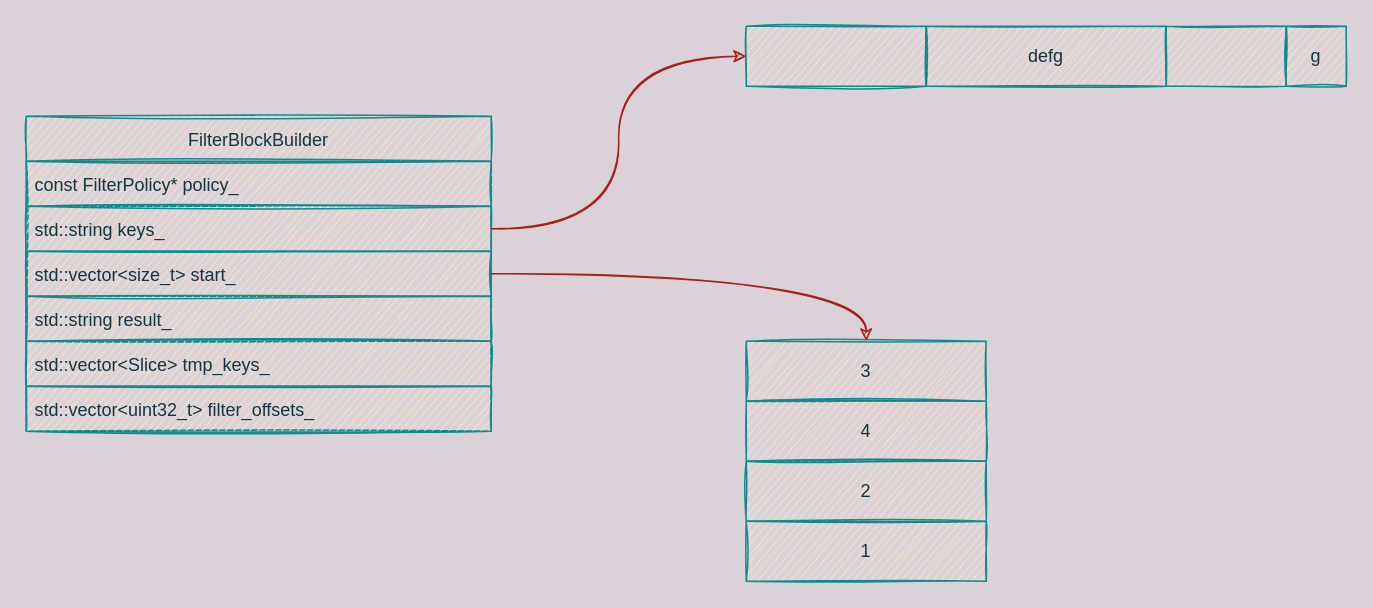
Some shapes in this 1373 by 608 pixel diagram are drawn without their labels. Each missing label, with the centre of its shape:
abc: the point at 835,55
hi: the point at 1225,55
